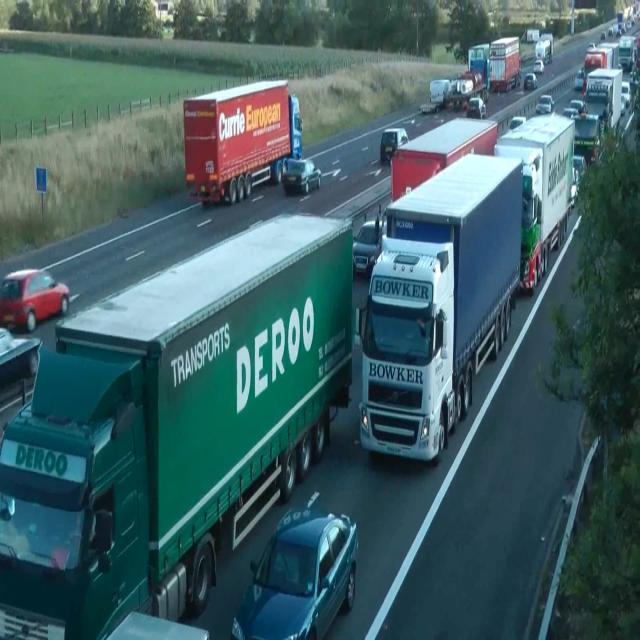bus: (231, 506, 358, 639), (0, 268, 70, 332), (104, 611, 210, 639), (0, 326, 42, 384), (352, 218, 382, 276), (281, 158, 321, 194), (380, 127, 408, 165), (572, 154, 586, 188), (466, 97, 486, 119), (536, 94, 554, 114), (570, 166, 578, 207), (570, 98, 586, 115), (621, 81, 631, 107), (523, 72, 537, 90), (574, 66, 584, 90), (510, 116, 526, 130), (562, 108, 580, 119), (419, 103, 437, 114), (534, 58, 544, 74), (620, 95, 625, 116), (586, 42, 596, 52), (600, 30, 606, 40)
minibus: (0, 209, 354, 638), (357, 151, 523, 464), (183, 78, 303, 205), (494, 111, 575, 294), (390, 116, 498, 202), (583, 67, 623, 136), (562, 107, 602, 169), (449, 58, 490, 110), (581, 42, 620, 92), (489, 36, 521, 92), (468, 42, 490, 90), (429, 78, 450, 110), (618, 35, 636, 70), (535, 34, 553, 64)
